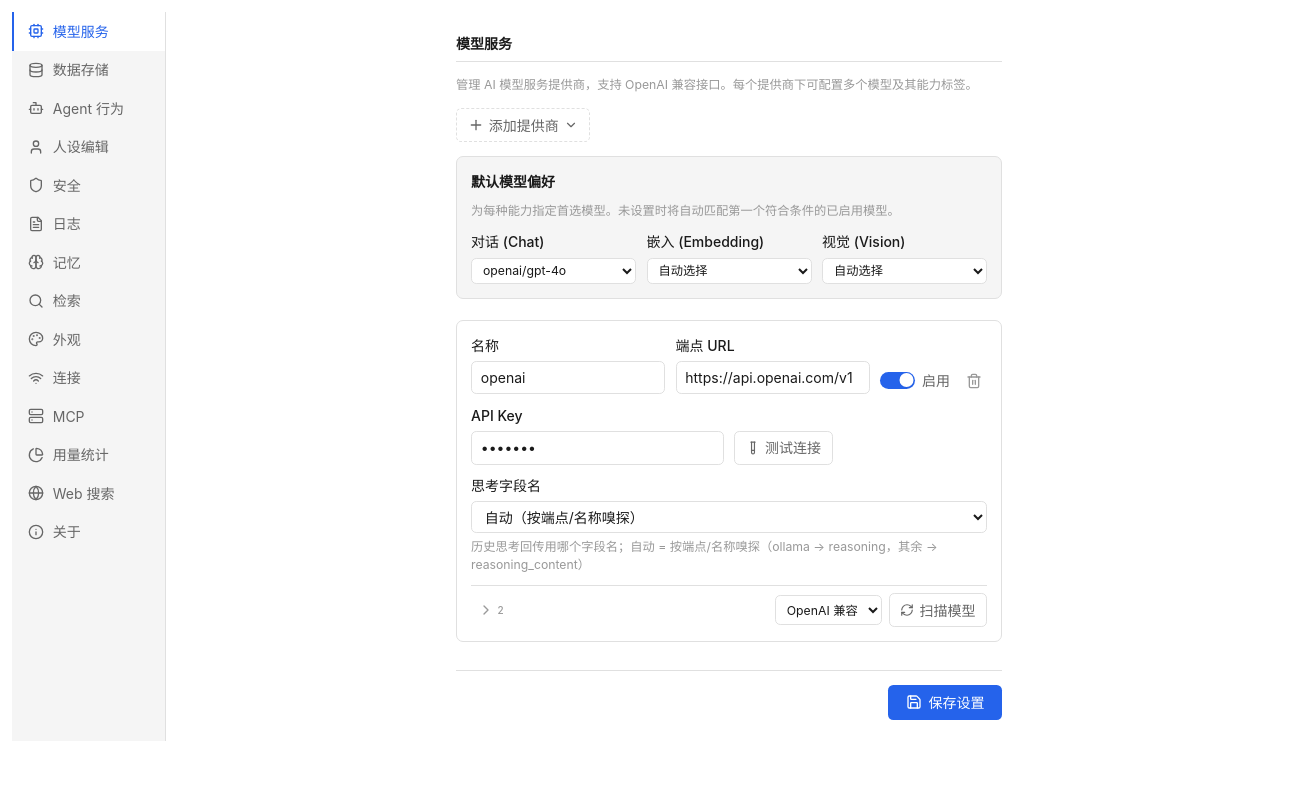
Test: SettingsPanel › switches content when clicking different tabs
Expected: the heading "默认模型偏好" is shown, [471,173,555,190]
// 点击「数据存储」→ 数据目录只读展示 + 数据搬迁按钮 + 保存按钮
Click the tab "数据存储" at {"x": 88, "y": 70}, box [12,50,165,89]
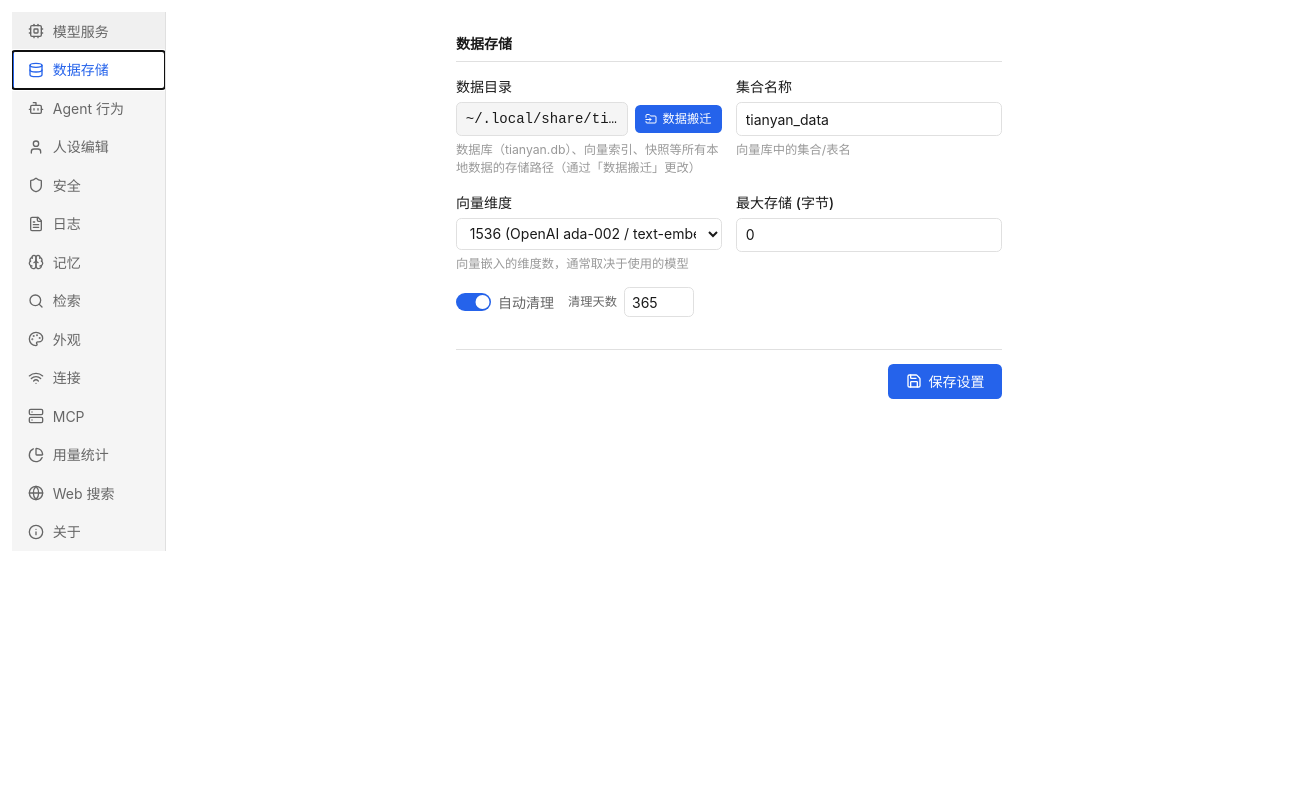
Expected: the text "数据目录" is shown, [456,78,512,95]
Expected: the text "~/.local/share/tianyan" is shown, [456,102,628,136]
Expected: the button "数据搬迁" is shown, [635,105,722,134]
